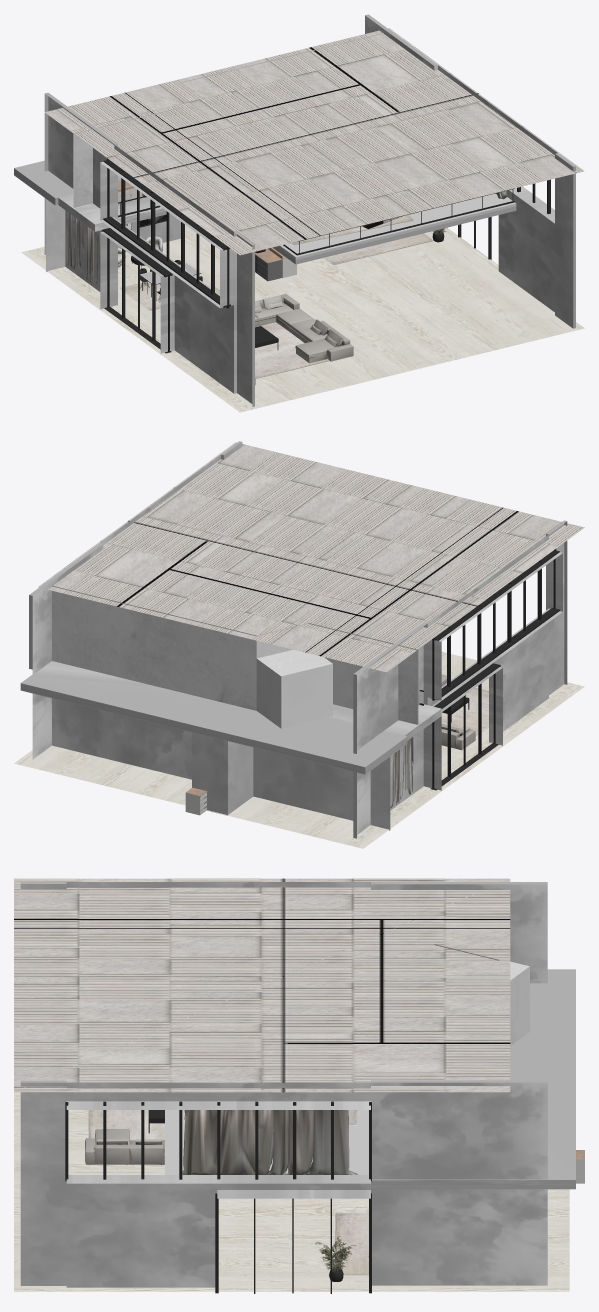
The model's file is sample.glb.
The picture shows the model from 3 angles, top to bottom: view 1: azimuth 30°, elevation 25°; view 2: azimuth 150°, elevation 25°; view 3: azimuth 270°, elevation 25°; orthographic projection. The views are drawn at different scales.
Visible parts, largest first — view 1: Plane.012_Material.019_0, Cube_Material.002_0, Plane_Material.001_0, Cube.001_Material.004_0, Plane.011_Material.010_0, node_0_Material.005_0, Plane.002_Material.003_0, node_0.002_Material.013_0, Cube.006_Material.007_0; view 2: Plane.012_Material.019_0, Cube_Material.002_0, Plane.002_Material.003_0, Plane_Material.001_0, Cube.001_Material.004_0, Plane.011_Material.010_0, node_0.002_Material.013_0, node_0_Material.005_0, Cube.006_Material.007_0; view 3: Plane.012_Material.019_0, Cube_Material.002_0, Plane_Material.001_0, node_0.002_Material.013_0, Cube.001_Material.004_0, Plane.011_Material.010_0, node_0_Material.005_0, Plane.002_Material.003_0, Cube.018_Material.018_0.
Boxes of the visible parts, x1,y1,x2,y2 form: Plane.012_Material.019_0: [44, 28, 584, 255]; Cube_Material.002_0: [14, 14, 575, 406]; Plane_Material.001_0: [21, 225, 584, 412]; Cube.001_Material.004_0: [102, 158, 550, 353]; Plane.011_Material.010_0: [119, 215, 433, 378]; node_0_Material.005_0: [255, 294, 353, 363]; Plane.002_Material.003_0: [73, 31, 391, 207]; node_0.002_Material.013_0: [68, 191, 506, 285]; Cube.006_Material.007_0: [118, 180, 296, 281]; Plane.012_Material.019_0: [38, 442, 584, 672]; Cube_Material.002_0: [20, 441, 567, 838]; Plane.002_Material.003_0: [52, 585, 418, 728]; Plane_Material.001_0: [14, 652, 584, 848]; Cube.001_Material.004_0: [419, 549, 559, 790]; Plane.011_Material.010_0: [441, 688, 488, 736]; node_0.002_Material.013_0: [390, 737, 413, 807]; node_0_Material.005_0: [441, 674, 475, 750]; Cube.006_Material.007_0: [185, 787, 207, 815]; Plane.012_Material.019_0: [14, 878, 510, 1092]; Cube_Material.002_0: [20, 882, 575, 1287]; Plane_Material.001_0: [14, 1092, 569, 1291]; node_0.002_Material.013_0: [182, 1110, 357, 1174]; Cube.001_Material.004_0: [65, 1101, 371, 1293]; Plane.011_Material.010_0: [88, 1110, 368, 1275]; node_0_Material.005_0: [85, 1129, 164, 1165]; Plane.002_Material.003_0: [434, 944, 529, 1045]; Cube.018_Material.018_0: [315, 1236, 355, 1271].
Size of what is drawn, in the model's own units: 11.54 by 5.05 by 12.58.
21 materials, 20 textured.
